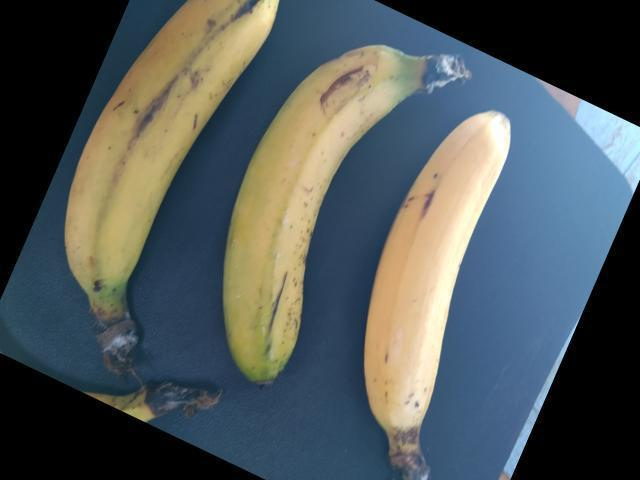freshripe: (340, 114, 519, 475)
ripe: (60, 0, 274, 326), (216, 42, 405, 387)
